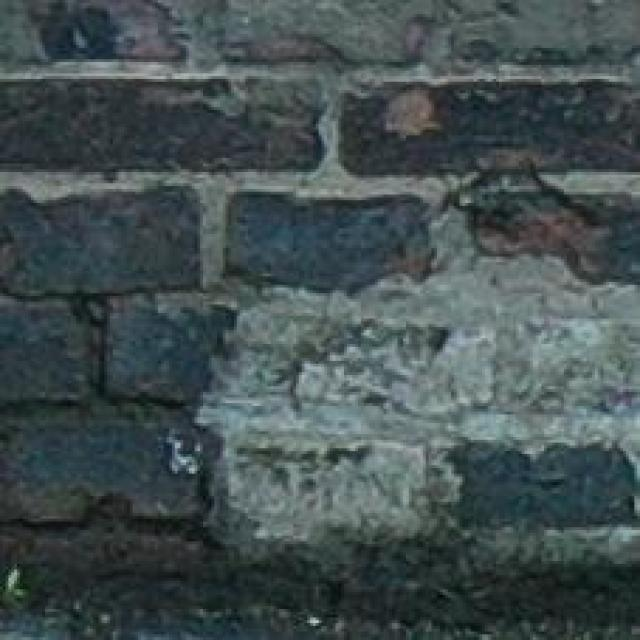Crack: (2, 286, 260, 640)
